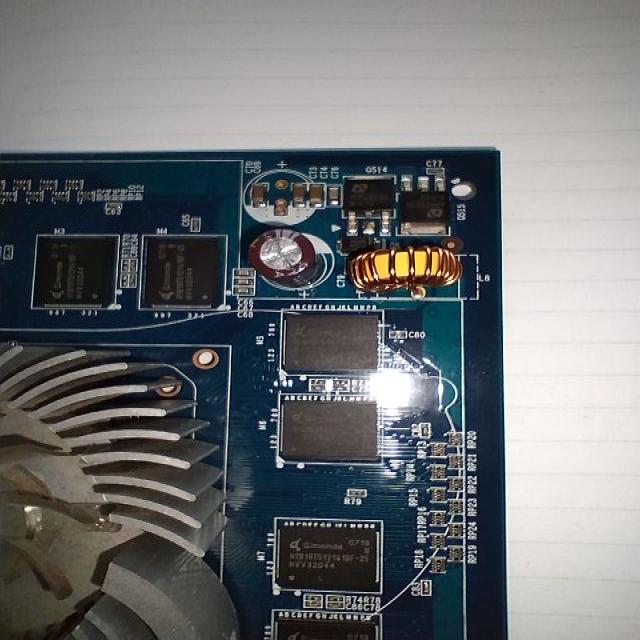capacitor: (253, 182, 267, 208), (331, 183, 344, 209), (236, 264, 251, 282), (312, 181, 323, 204), (428, 163, 445, 177), (236, 284, 250, 296)
resistor: (81, 186, 95, 205), (68, 178, 85, 190)
